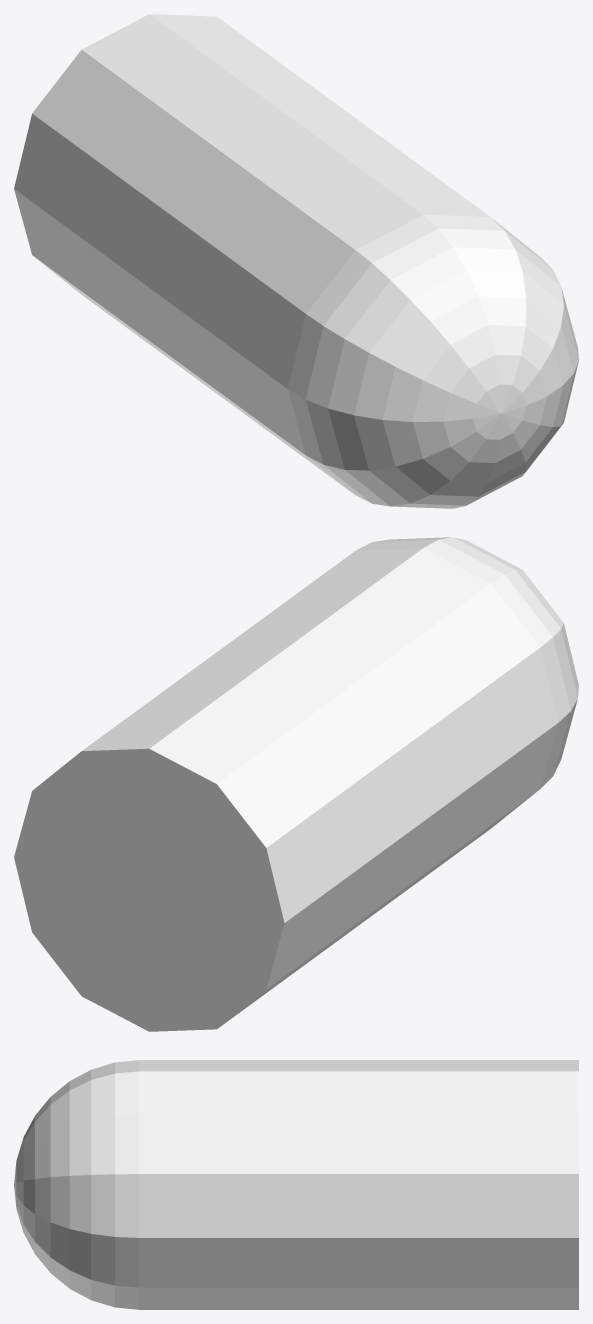
File: bullet.dae
3 views of the same model, one above another, from view 1: azimuth 30°, elevation 25°; view 2: azimuth 150°, elevation 25°; view 3: azimuth 270°, elevation 25° (orthographic). The views are drawn at different scales.
Visible parts, largest first — view 1: Sphere; view 2: Sphere; view 3: Sphere.
Part boxes in pixels (bbox=[...]): Sphere: bbox=[14, 14, 578, 508]; Sphere: bbox=[14, 537, 578, 1031]; Sphere: bbox=[14, 1060, 578, 1309].
Size of the model in its own units: 0.2 by 0.4507 by 0.2.
Materials: 1 (1 with a texture image).
